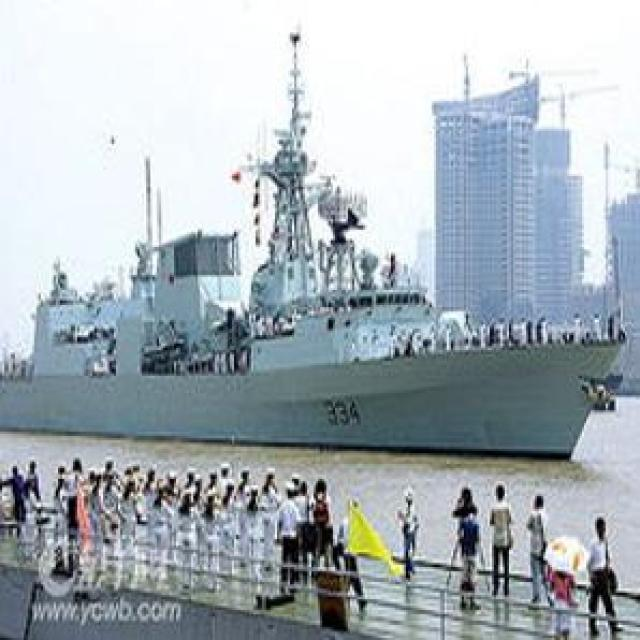navalvessels: (0, 23, 626, 460)
